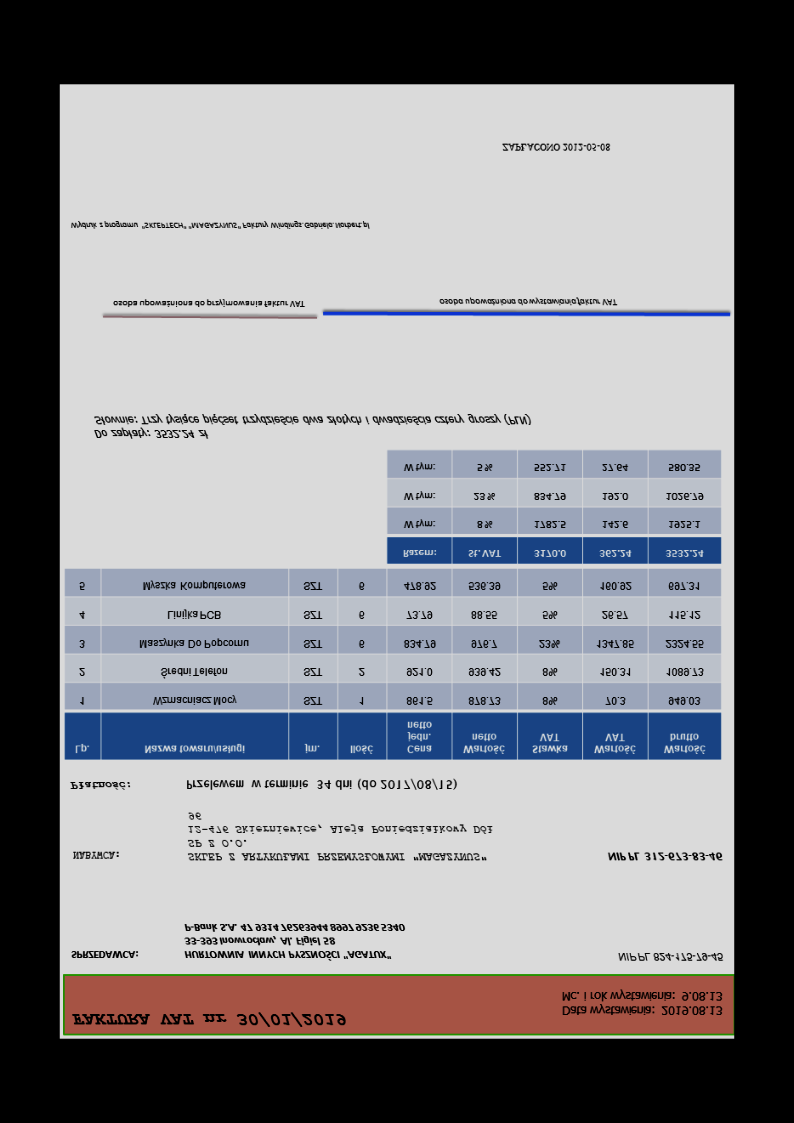Table: (63, 567, 723, 762), (386, 450, 723, 565), (92, 411, 532, 442)
TextBox: (184, 809, 496, 865), (182, 921, 406, 961), (70, 1009, 347, 1030), (558, 989, 724, 1019), (184, 777, 458, 792), (68, 219, 372, 232), (437, 296, 619, 308), (110, 298, 306, 309), (604, 849, 724, 864), (615, 950, 724, 964), (501, 142, 611, 154), (69, 948, 139, 961), (69, 779, 132, 793), (70, 850, 122, 862)
